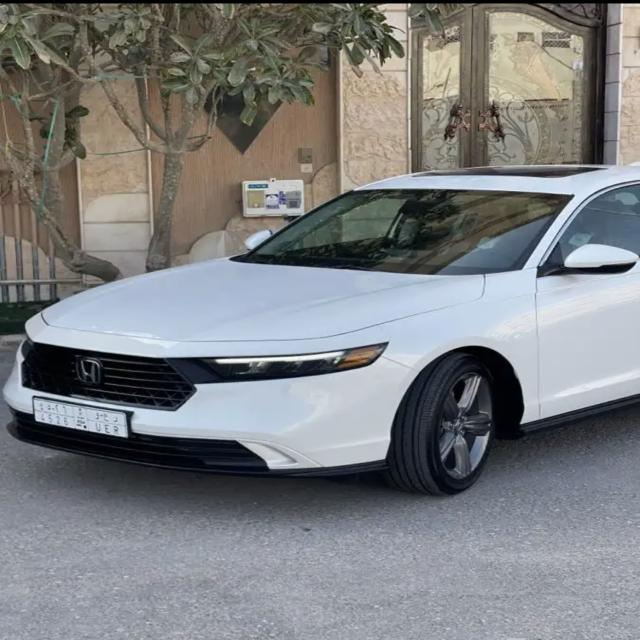license_plate: (30, 394, 132, 440)
